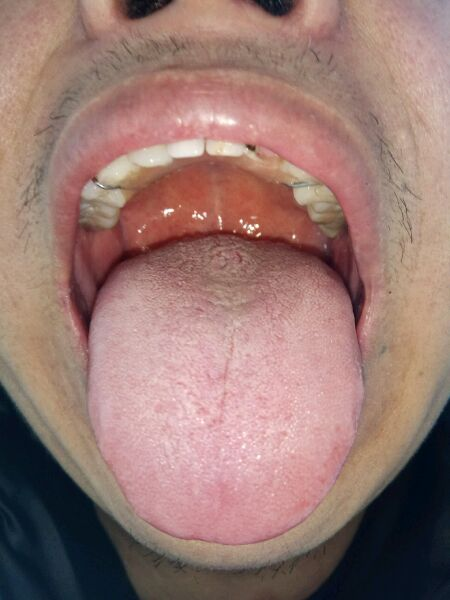baitaishe: (87, 234, 363, 545)
pangdashe: (87, 234, 363, 545)
